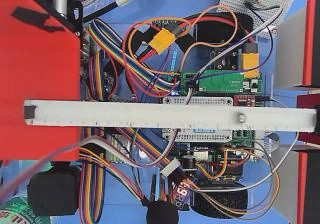ironball: (235, 111, 247, 122)
